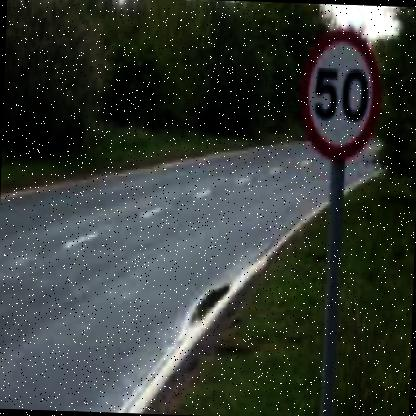speedlimit: (296, 21, 378, 160)
